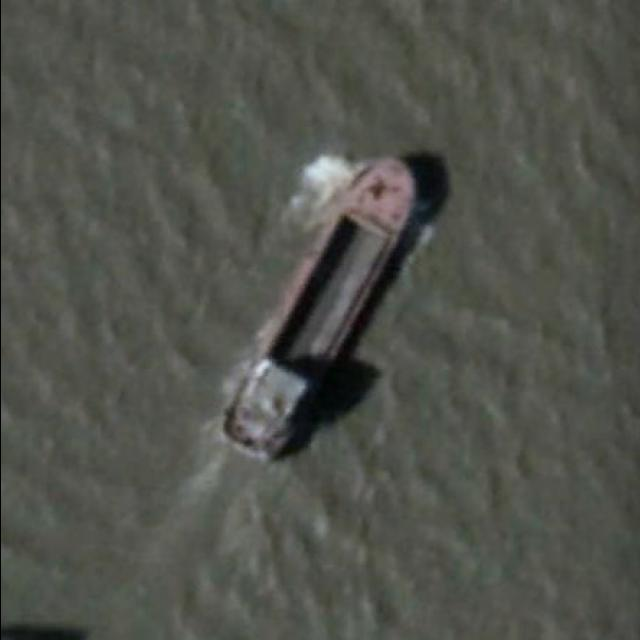ship: (210, 147, 420, 460)
